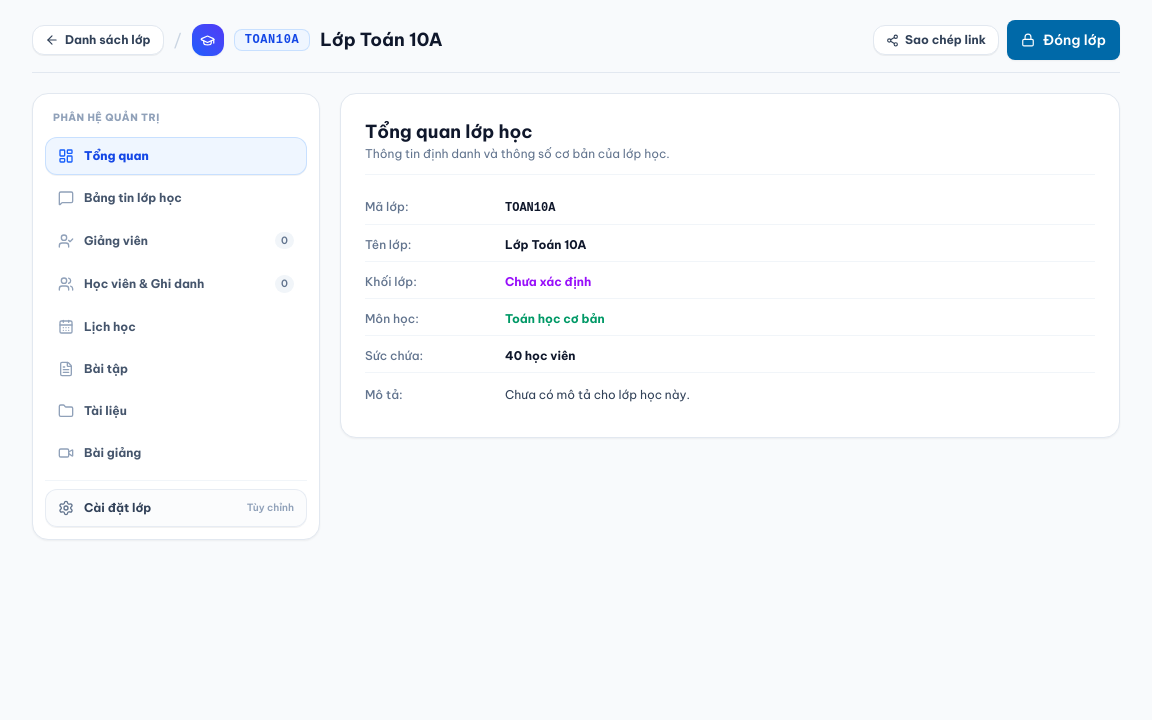
Test case: ManagerClassWorkspace visibility controls › không còn ô Tóm tắt nội dung ở tab Bài giảng và khóa Xem bài giảng khi mục đã ẩn
Click the button "Bài giảng": click(113, 452) x1=45 y1=434 x2=307 y2=472
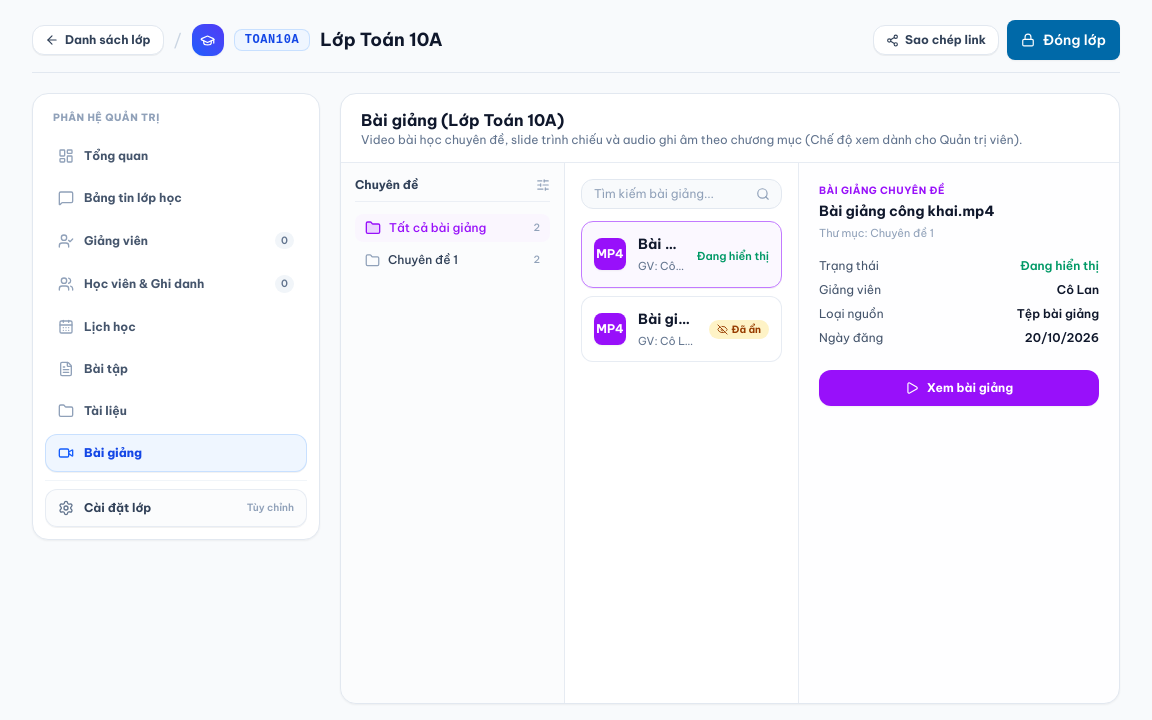
Result: the text "Bài giảng công khai.mp4" is shown at x1=638 y1=234 x2=685 y2=254
Result: the text "Bài giảng đã ẩn.mp4" is shown
Result: the button "Xem bài giảng" is enabled at x1=819 y1=370 x2=1099 y2=406
Click the text "Bài giảng đã ẩn.mp4": click(667, 318) x1=638 y1=308 x2=697 y2=328
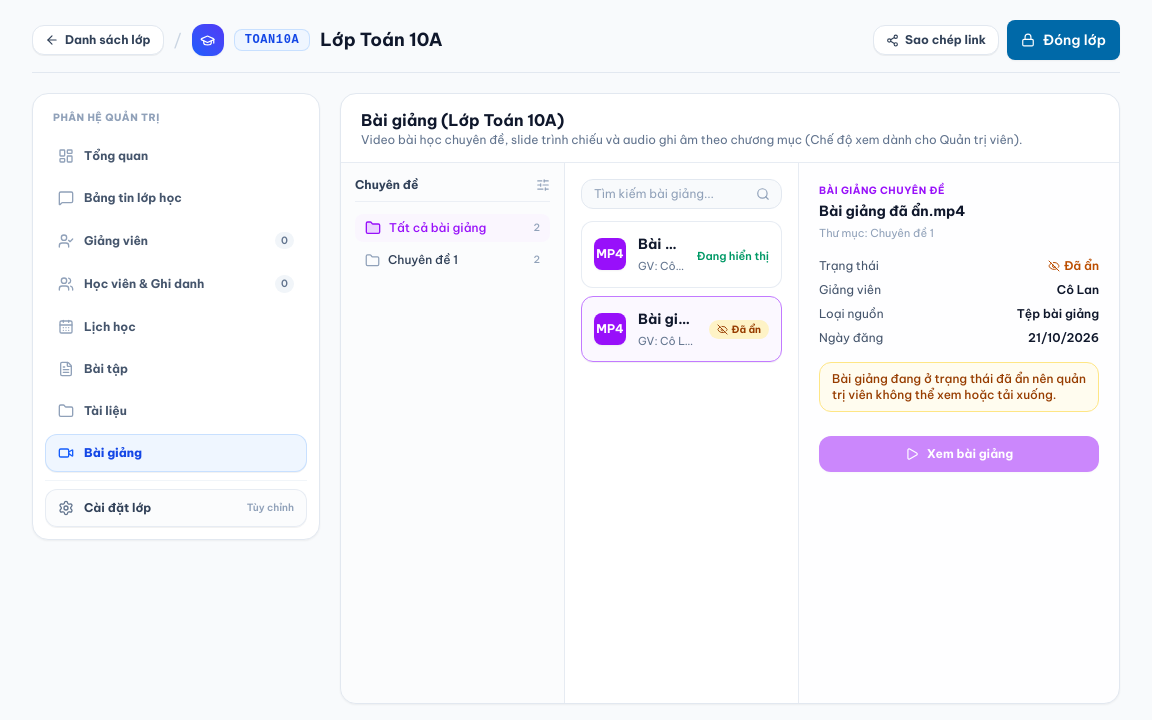
Result: the text "Bài giảng đang ở trạng thái đã ẩn nên quản trị viên không thể xem hoặc tải xuống." is shown at x1=832 y1=371 x2=1086 y2=402
Result: the button "Xem bài giảng" is disabled at x1=819 y1=436 x2=1099 y2=472
Click the button "Tổng quan": click(116, 156) x1=45 y1=137 x2=307 y2=175
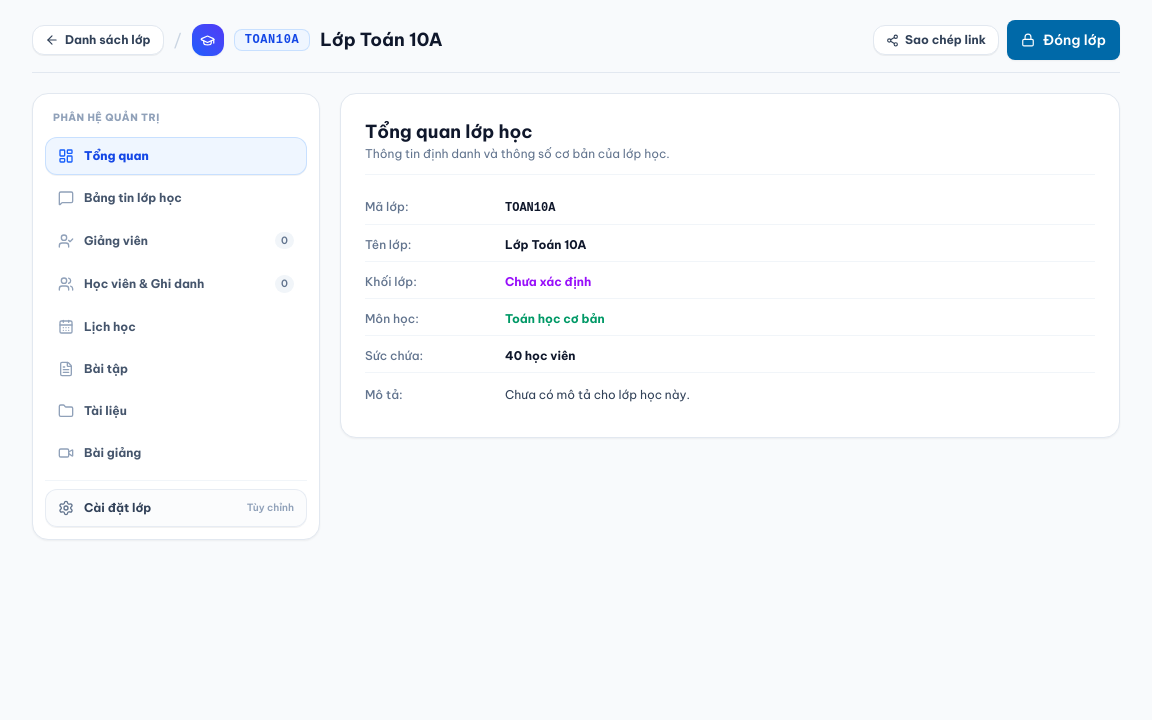
Click the button "Tài liệu": click(105, 410) x1=45 y1=392 x2=307 y2=430
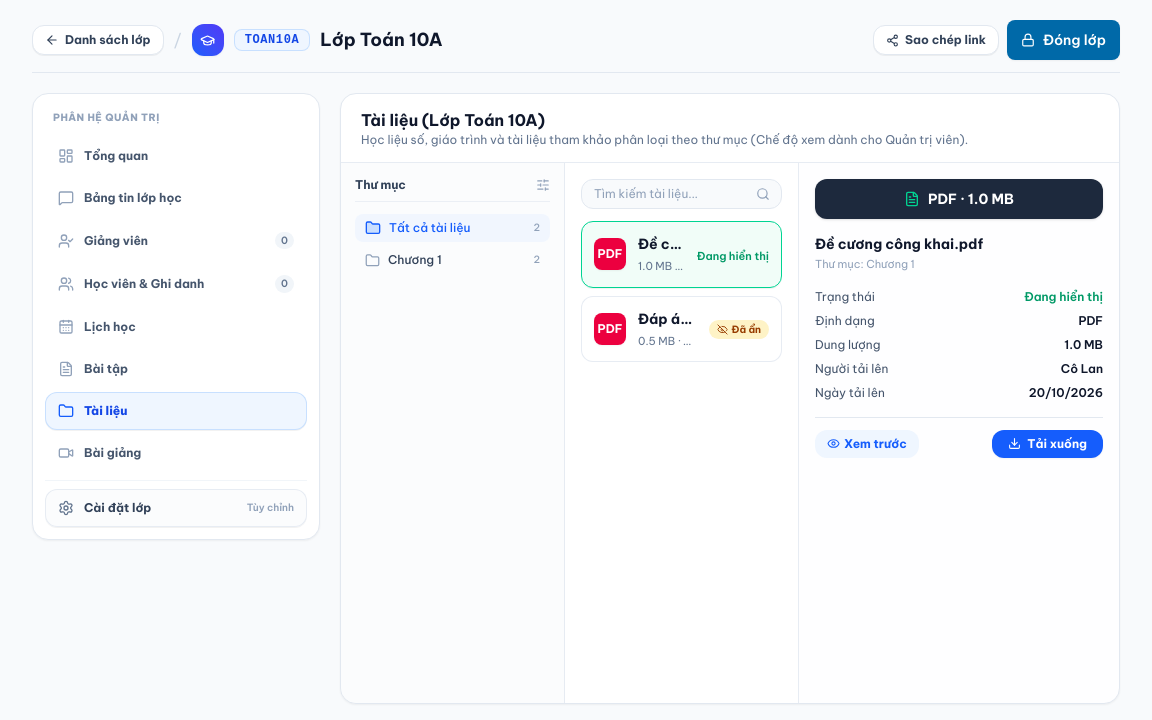
Result: the text "Đáp án đang ẩn.pdf" is shown at x1=638 y1=308 x2=697 y2=328
